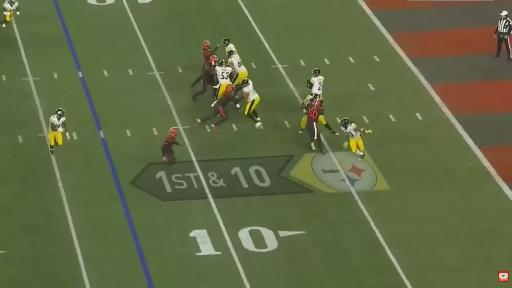Helmet: (340, 118, 350, 128), (56, 108, 64, 118), (313, 98, 321, 108), (170, 128, 178, 137), (222, 38, 230, 47), (209, 56, 218, 64), (203, 41, 210, 50), (312, 69, 320, 76), (218, 60, 226, 67), (241, 79, 249, 86), (227, 50, 235, 57), (226, 85, 234, 92), (8, 0, 17, 6), (500, 11, 507, 15), (312, 94, 319, 98)
Jersey: (229, 54, 247, 73), (243, 80, 258, 101), (306, 103, 322, 122), (341, 123, 360, 138), (49, 115, 65, 131), (216, 67, 232, 83), (310, 76, 323, 94), (204, 64, 215, 82), (164, 137, 178, 149), (4, 2, 18, 11), (203, 50, 213, 62), (226, 44, 237, 54)
Player: (197, 84, 237, 130), (340, 118, 371, 160), (193, 56, 218, 100), (306, 99, 324, 154), (241, 79, 261, 128), (48, 108, 69, 154), (300, 94, 319, 132), (161, 128, 180, 165), (215, 60, 232, 100), (228, 51, 247, 86), (215, 60, 232, 99), (307, 69, 323, 99), (2, 0, 19, 27), (203, 41, 218, 67), (203, 41, 218, 62), (222, 38, 237, 57)
